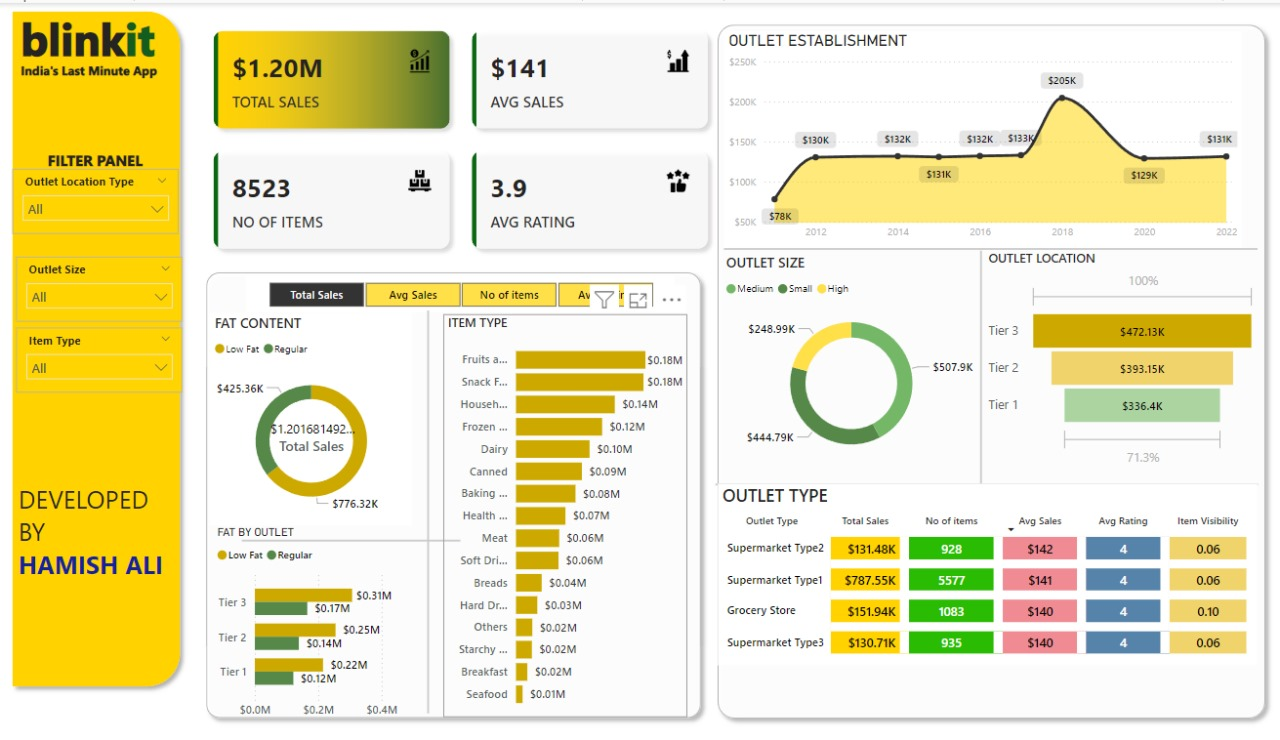

Layout of this report page (visuals, bound fields, positions):
{"tool":"powerbi","page":{"name":"Page 1","canvas":[1400,800],"ordinal":0},"visuals":[{"type":"shape","box":[10,0,200,750],"z":0},{"type":"textbox","box":[23.8,0,172,74.1],"z":1000},{"type":"textbox","box":[23.8,59.5,173.3,27.8],"z":2000},{"type":"cardVisual","fields":{"Data":["BlinkIT Grocery Data.Total Sales","BlinkIT Grocery Data.Avg Sales","BlinkIT Grocery Data.No of items","BlinkIT Grocery Data.Avg Rating"]},"box":[221.4,12.9,570,270],"z":3000},{"type":"shape","box":[221,283,554,501],"z":4000},{"type":"donutChart","title":"FAT CONTENT","fields":{"Y":["BlinkIT Grocery Data.Total Sales"],"Category":["BlinkIT Grocery Data.Item Fat Content"]},"box":[234.1,336,219.6,230.2],"z":5000},{"type":"slicer","fields":{"Values":["Metrics.Metrics"]},"box":[273,296.7,465.5,39.5],"z":6000},{"type":"cardVisual","fields":{"Data":["BlinkIT Grocery Data.Total Sales"]},"box":[280.9,435.5,127.8,69.4],"z":7000},{"type":"clusteredBarChart","title":"FAT BY OUTLET","fields":{"Y":["BlinkIT Grocery Data.Total Sales"],"Category":["BlinkIT Grocery Data.Outlet Location Type"],"Series":["BlinkIT Grocery Data.Item Fat Content"]},"box":[236.7,566.7,216.7,218.3],"z":8000},{"type":"shape","box":[268.3,566.7,236.7,33.3],"z":9000},{"type":"shape","box":[453.3,333.3,33.3,436.7],"z":10000},{"type":"barChart","title":"ITEM TYPE","fields":{"Y":["BlinkIT Grocery Data.Total Sales"],"Category":["BlinkIT Grocery Data.Item Type"]},"box":[486.7,336.7,265,436.7],"z":11000},{"type":"shape","box":[775,15,611.7,770],"z":12000},{"type":"lineChart","title":"OUTLET ESTABLISHMENT","fields":{"Category":["BlinkIT Grocery Data.Outlet Establishment Year"],"Y":["BlinkIT Grocery Data.Total Sales"]},"box":[791.7,30,561.7,235],"z":13000},{"type":"shape","box":[791.7,250,578.3,33.3],"z":14000},{"type":"donutChart","title":"OUTLET SIZE","fields":{"Y":["Sum(BlinkIT Grocery Data.Sales)"],"Category":["BlinkIT Grocery Data.Outlet Size"]},"box":[788.3,271.7,281.7,235],"z":15000},{"type":"shape","box":[1053.3,268.3,33.3,253.3],"z":16000},{"type":"funnel","title":"OUTLET LOCATION","fields":{"Y":["Sum(BlinkIT Grocery Data.Sales)"],"Category":["BlinkIT Grocery Data.Outlet Location Type"]},"box":[1073.3,266.7,300,240],"z":17000},{"type":"shape","box":[781.7,505,588.3,33.3],"z":18000},{"type":"pivotTable","title":"OUTLET TYPE","fields":{"Rows":["BlinkIT Grocery Data.Outlet Type"],"Values":["Sum(BlinkIT Grocery Data.Sales)","BlinkIT Grocery Data.No of items","BlinkIT Grocery Data.Avg Sales","BlinkIT Grocery Data.Avg Rating","Avg(BlinkIT Grocery Data.Item Visibility)"]},"box":[785,521.7,585,196.7],"z":19000},{"type":"slicer","fields":{"Values":["BlinkIT Grocery Data.Outlet Location Type"]},"box":[20,180,180,70],"z":20000},{"type":"slicer","fields":{"Values":["BlinkIT Grocery Data.Outlet Size"]},"box":[23.3,275,180,70],"z":21000},{"type":"slicer","fields":{"Values":["BlinkIT Grocery Data.Item Type"]},"box":[23.3,351.7,180,70],"z":22000},{"type":"textbox","box":[41.7,155,136.7,48.3],"z":23000},{"type":"textbox","box":[21.7,515,178.3,136.7],"z":24000}]}

Visuals, with their boxes in screenshot pixels (x1, y1, x2, y2), scaled from the page's 1400x800 canvas onto the 1280x740 screenshot:
shape: detection(9, 0, 192, 694)
textbox: detection(22, 0, 179, 69)
textbox: detection(22, 55, 180, 81)
cardVisual - BlinkIT Grocery Data.Total Sales x BlinkIT Grocery Data.Avg Sales: detection(202, 12, 724, 262)
shape: detection(202, 262, 709, 725)
"FAT CONTENT" donutChart: detection(214, 311, 415, 524)
slicer - Metrics.Metrics: detection(250, 274, 675, 311)
cardVisual - BlinkIT Grocery Data.Total Sales: detection(257, 403, 374, 467)
"FAT BY OUTLET" clusteredBarChart: detection(216, 524, 415, 726)
shape: detection(245, 524, 462, 555)
shape: detection(414, 308, 445, 712)
"ITEM TYPE" barChart: detection(445, 311, 687, 715)
shape: detection(709, 14, 1268, 726)
"OUTLET ESTABLISHMENT" lineChart: detection(724, 28, 1237, 245)
shape: detection(724, 231, 1253, 262)
"OUTLET SIZE" donutChart: detection(721, 251, 978, 469)
shape: detection(963, 248, 993, 482)
"OUTLET LOCATION" funnel: detection(981, 247, 1256, 469)
shape: detection(715, 467, 1253, 498)
"OUTLET TYPE" pivotTable: detection(718, 483, 1253, 665)
slicer - BlinkIT Grocery Data.Outlet Location Type: detection(18, 166, 183, 231)
slicer - BlinkIT Grocery Data.Outlet Size: detection(21, 254, 186, 319)
slicer - BlinkIT Grocery Data.Item Type: detection(21, 325, 186, 390)
textbox: detection(38, 143, 163, 188)
textbox: detection(20, 476, 183, 603)
